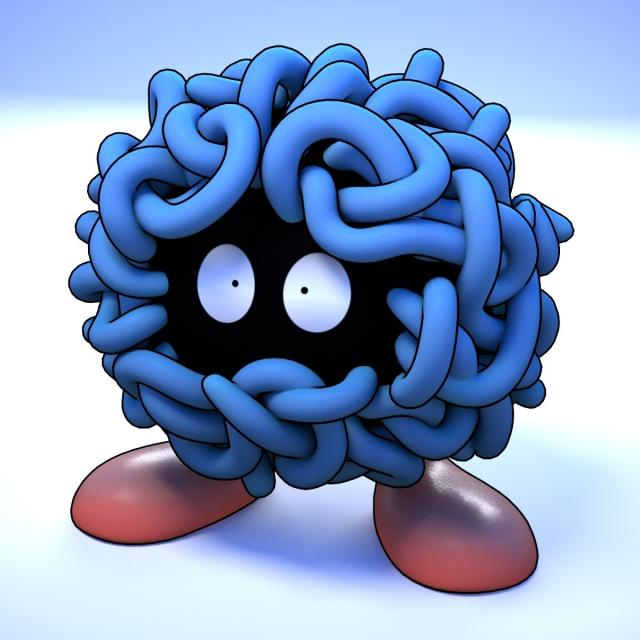Tangela: (30, 26, 591, 616)
